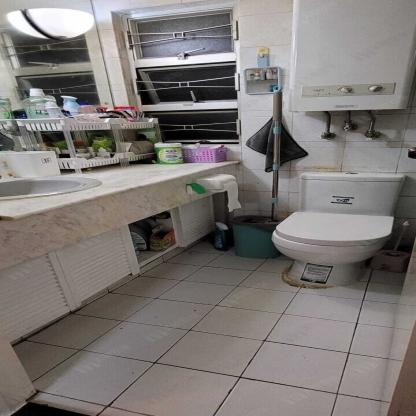Toilet: (255, 169, 412, 297)
Toilet Sink: (0, 175, 181, 220)
Water Heater: (290, 0, 414, 112)
